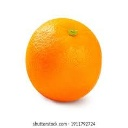orange: (24, 18, 104, 103)
